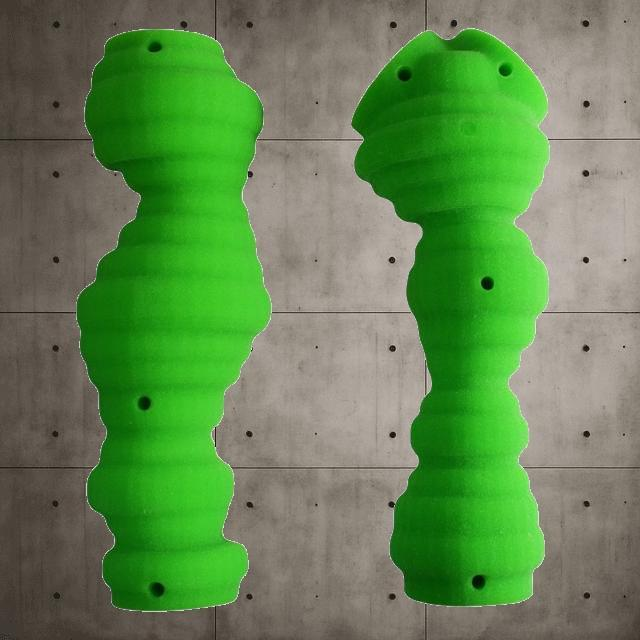Pinch: (351, 26, 551, 606), (76, 27, 272, 611)
